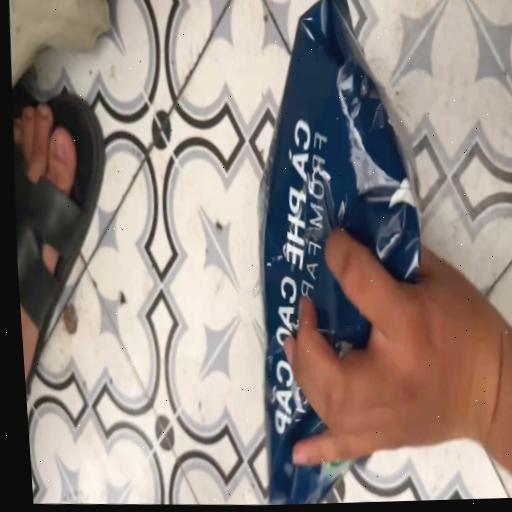cafe_hat: (259, 0, 420, 505)
